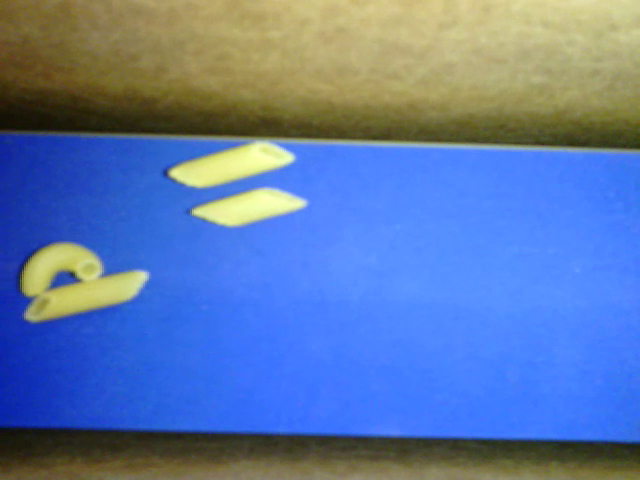elbow: (19, 242, 103, 297)
penne: (24, 270, 150, 323), (164, 140, 296, 190), (188, 186, 308, 227)
